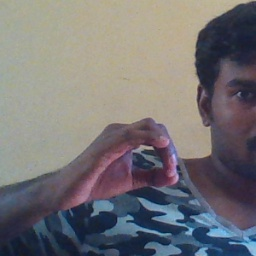O: (73, 110, 187, 208)
